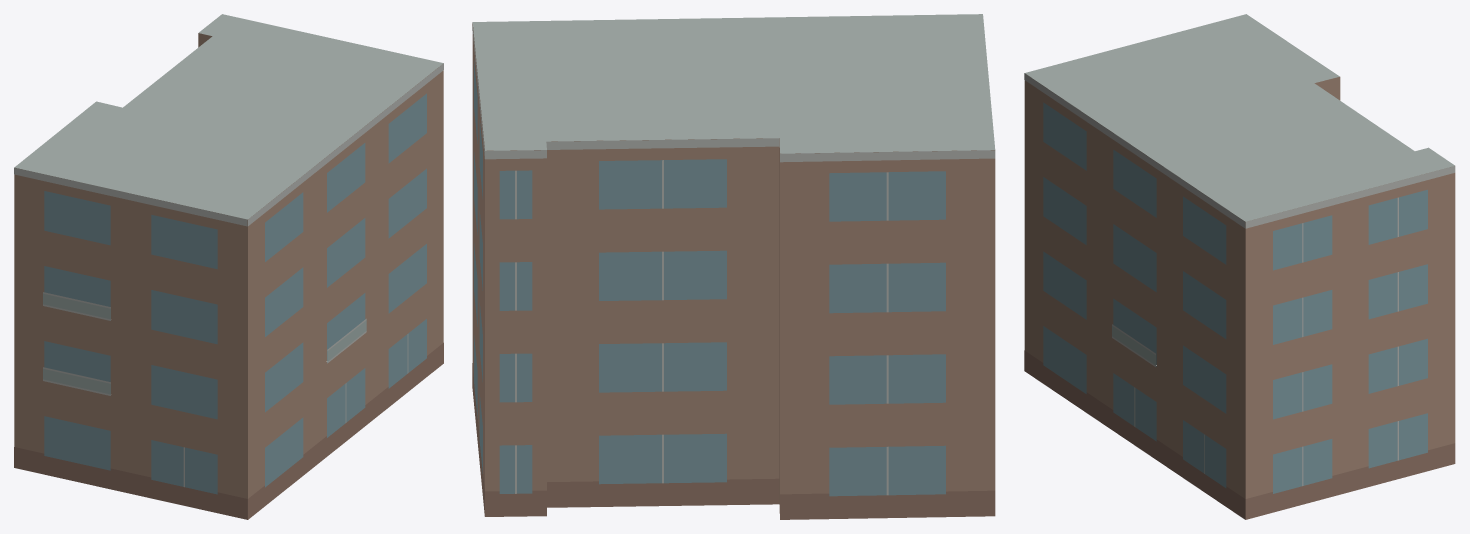
The model's file is survey-upis-33045452.glb.
3 renders of one model, left to right at view 1: azimuth 30°, elevation 25°; view 2: azimuth 150°, elevation 25°; view 3: azimuth 270°, elevation 25°, orthographic. The views are drawn at different scales.
Parts seen in each view (by area): view 1: survey-upis-33045452.tmp; view 2: survey-upis-33045452.tmp; view 3: survey-upis-33045452.tmp.
Boxes of the visible parts, box(x1,y1,x2,y2) form: survey-upis-33045452.tmp: box(14, 14, 443, 519); survey-upis-33045452.tmp: box(472, 14, 995, 519); survey-upis-33045452.tmp: box(1024, 14, 1455, 519).
Size of the model in its own units: 15.71 by 10.5 by 13.76.
